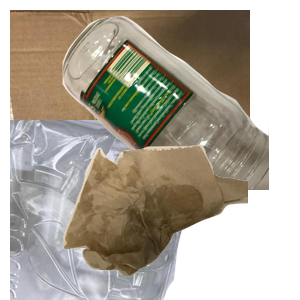cardboard: (10, 10, 250, 190)
glass: (60, 14, 300, 194)
plastic: (10, 120, 197, 300)
trash: (60, 142, 300, 300)
